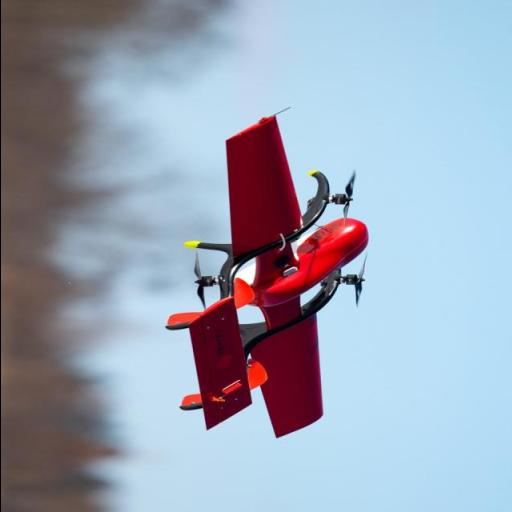uav: (170, 102, 374, 448)
